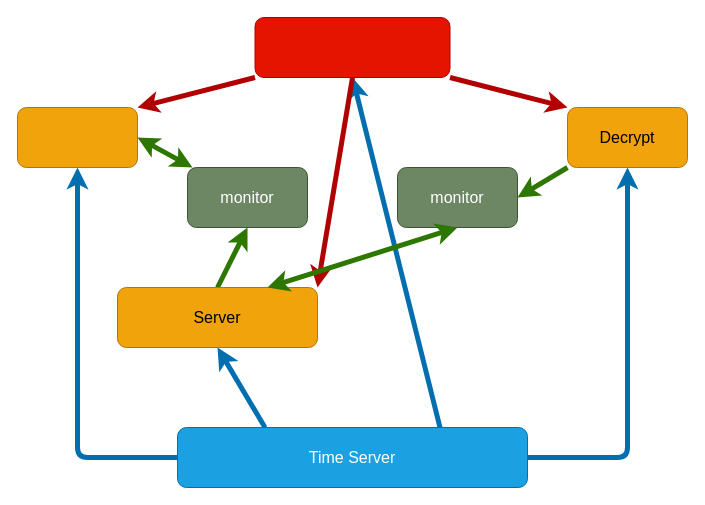
This 705x505 diagram has some shape labels left out. The shapes that lost their labels are listed below. From the top down, each one's centre as x and y in pixels, then its label:
pixel 352 47: Periodic Dispatcher
pixel 77 137: Encrypt
